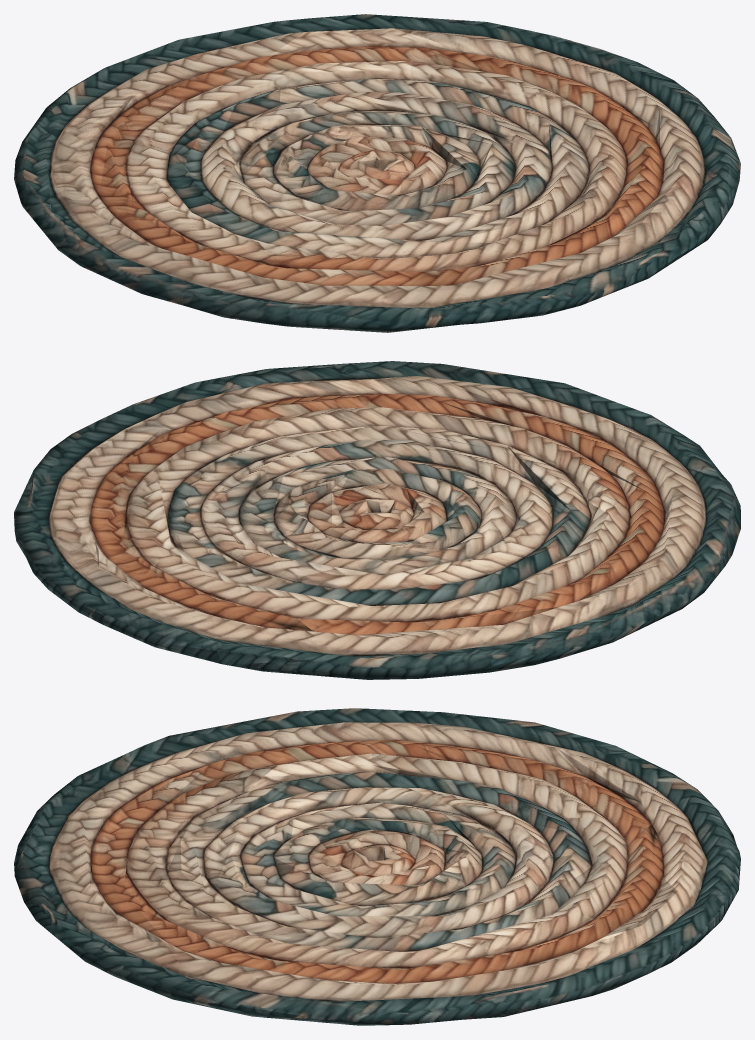
The model's file is Decor_Rug.fbx.
3 renders of one model, top to bottom at view 1: azimuth 30°, elevation 25°; view 2: azimuth 150°, elevation 25°; view 3: azimuth 270°, elevation 25°, orthographic.
Visible parts, largest first — view 1: Mesh_0; view 2: Mesh_0; view 3: Mesh_0.
Part boxes in pixels (x1=…): Mesh_0: x1=14, y1=14, x2=740, y2=332; Mesh_0: x1=14, y1=361, x2=740, y2=679; Mesh_0: x1=14, y1=708, x2=740, y2=1025.
Bounding box in the file's own units: 190 × 7.16 × 189.
Materials: 1 (1 with a texture image).
